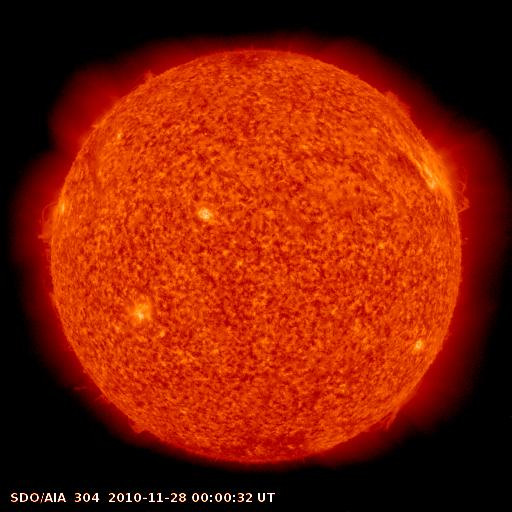prominence: (26, 192, 70, 313), (73, 375, 152, 436), (443, 150, 493, 230), (362, 387, 421, 442), (376, 75, 424, 128)
